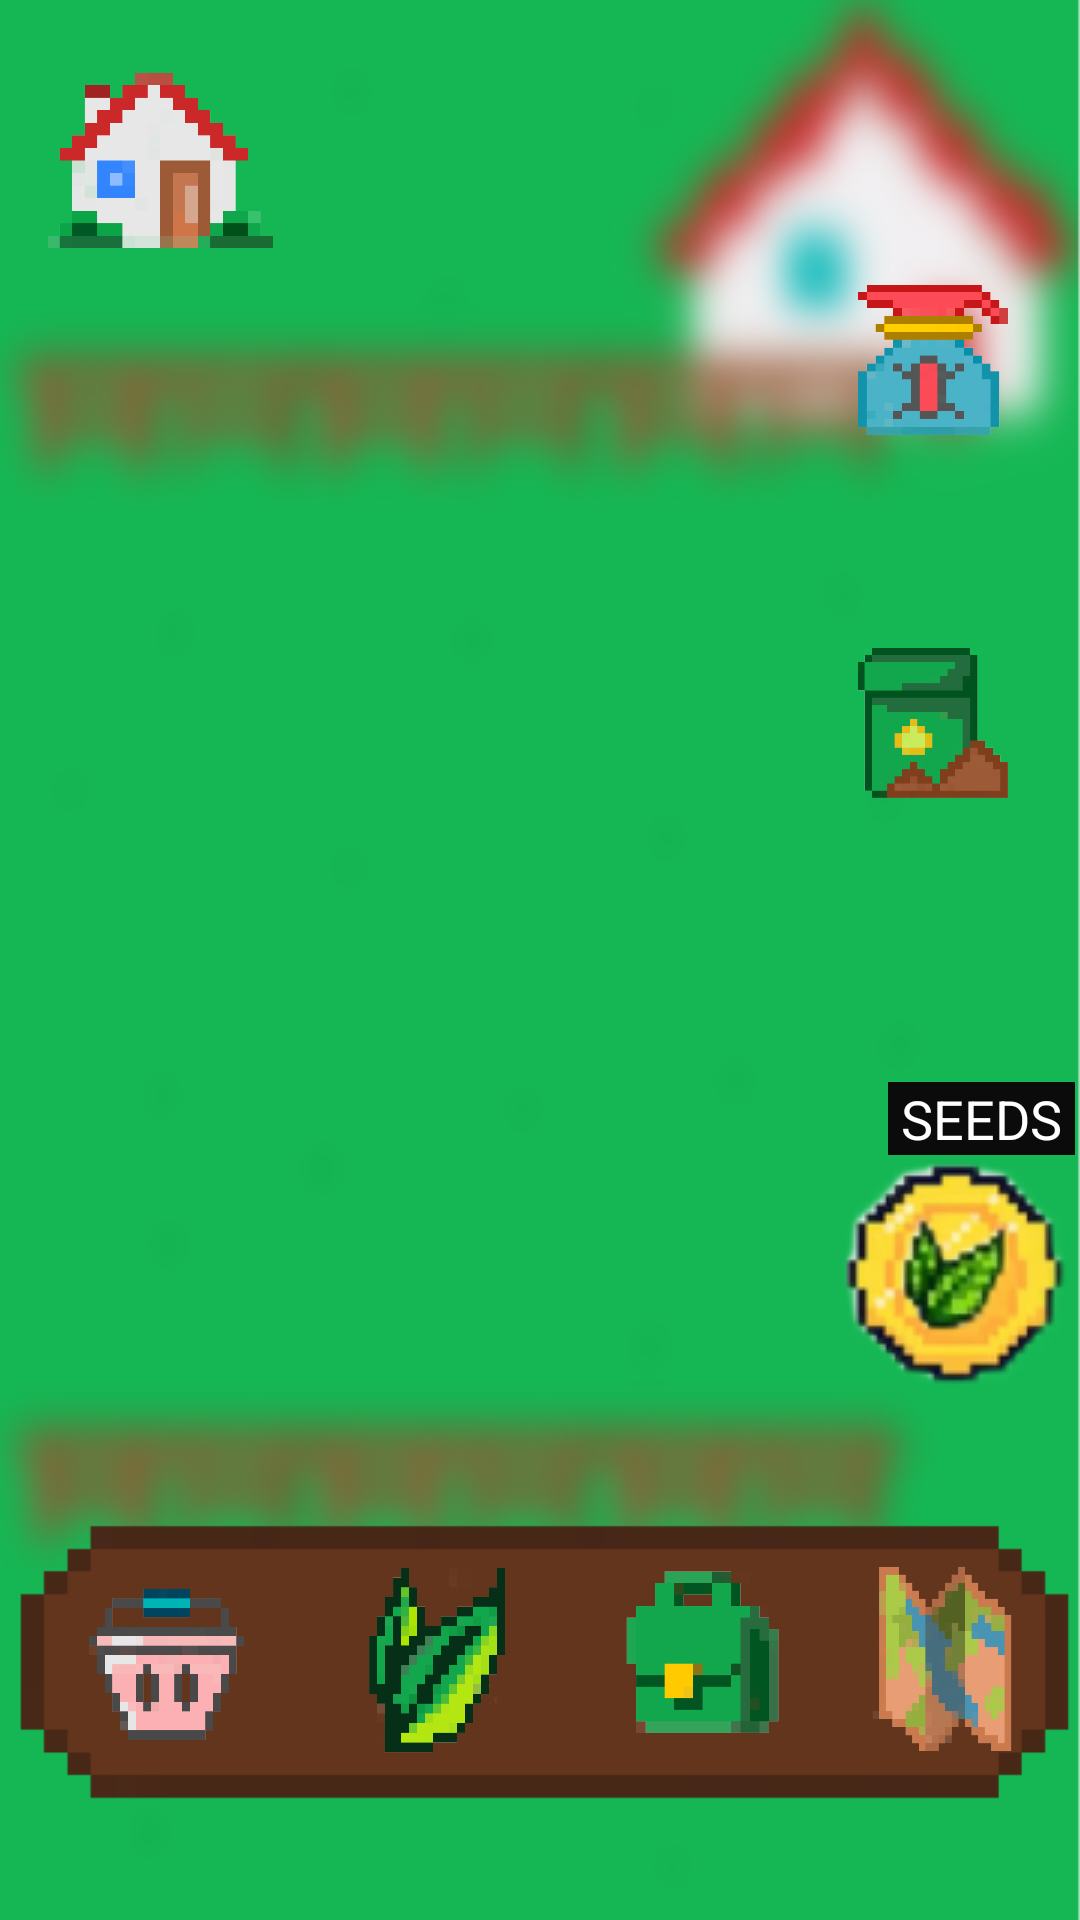

Screen size 1080 x 1920. Icon name, then its center in pixels as (x,y):
fertilizer: (933,723)
grow: (955,1273), (435,1657)
inside house: (160,160)
inventory: (705,1657)
map: (945,1657)
pesticide: (933,360)
shop: (165,1657)
